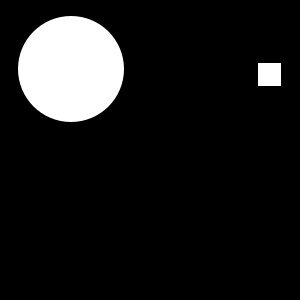circle: (258, 63, 281, 86)
rectangle: (18, 16, 124, 122)
